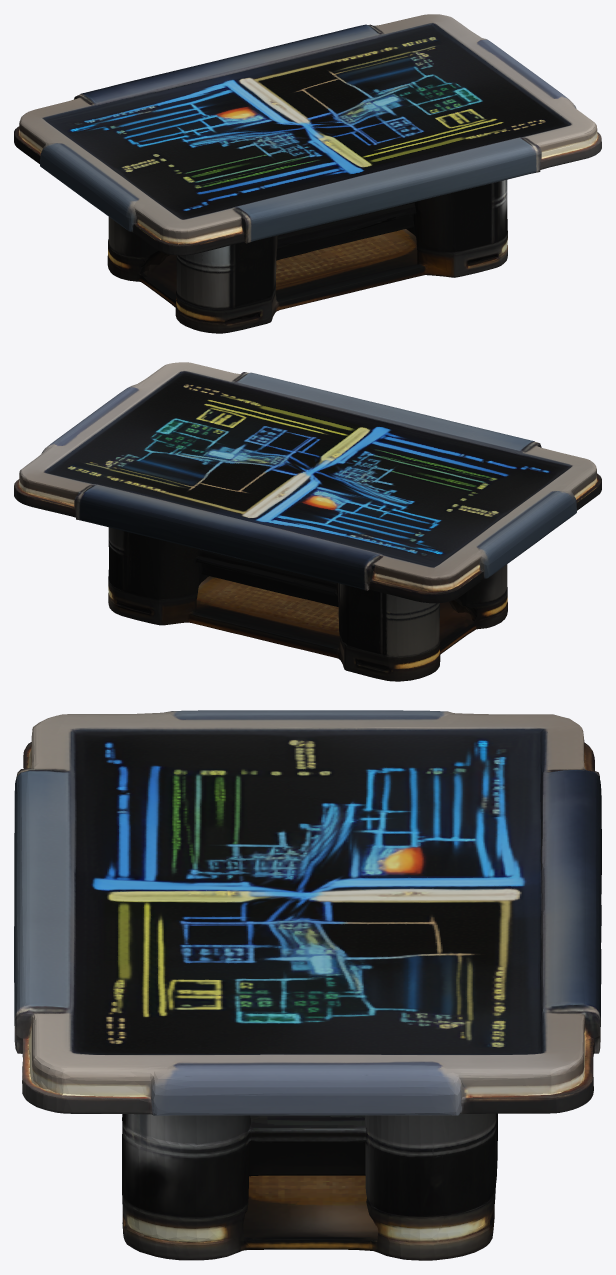
Rendered from master_systems.glb.
3 views of the same model, one above another, from view 1: azimuth 30°, elevation 25°; view 2: azimuth 150°, elevation 25°; view 3: azimuth 270°, elevation 25° (orthographic). The views are drawn at different scales.
Parts seen in each view (by area): view 1: world; view 2: world; view 3: world.
Part boxes in pixels (box(x1,y1,x2,y2)): world: box(14, 14, 601, 333); world: box(14, 362, 601, 681); world: box(14, 710, 601, 1260).
Bounding box in the file's own units: 0.9991 × 0.3037 × 0.6656.
1 material, 1 textured.
